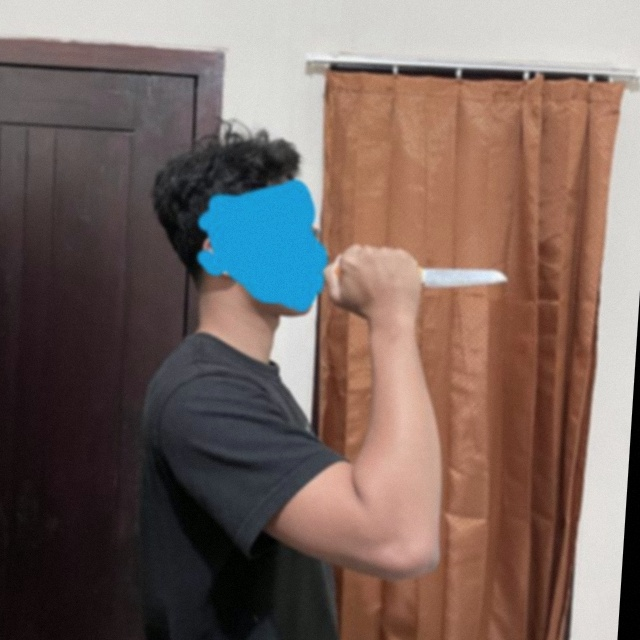Sharp-Object: (418, 263, 510, 294)
